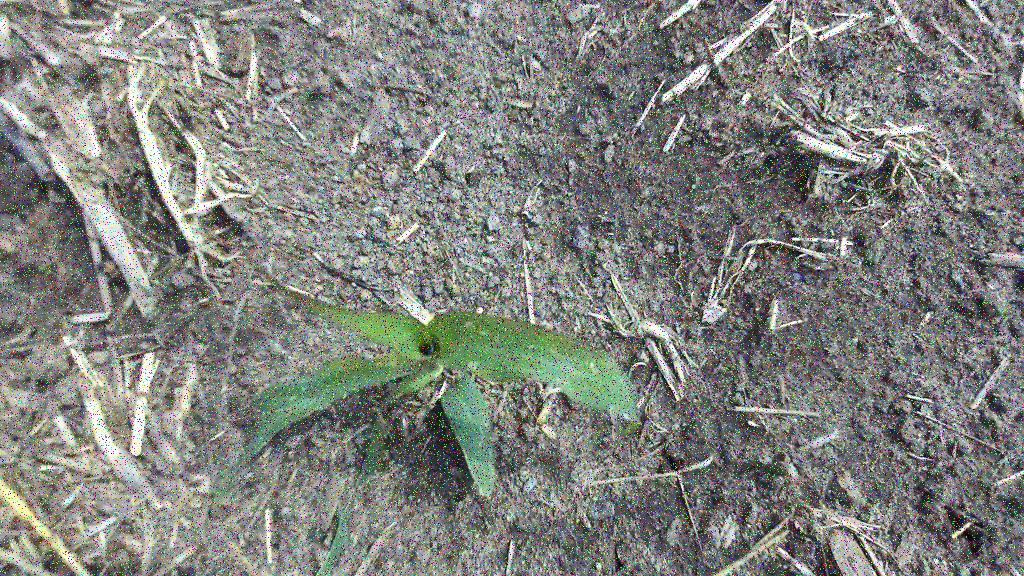BroWeed: (200, 236, 240, 267), (913, 81, 942, 115), (344, 169, 373, 199), (190, 471, 213, 496), (383, 204, 403, 231), (99, 257, 122, 280), (536, 420, 560, 442), (891, 396, 917, 414), (507, 96, 535, 111), (728, 390, 747, 409), (225, 203, 247, 219), (187, 494, 205, 511), (176, 515, 194, 531), (33, 260, 53, 274), (744, 418, 762, 431), (671, 320, 683, 335), (838, 179, 848, 188), (460, 547, 469, 557)
Maize: (165, 246, 660, 576)
